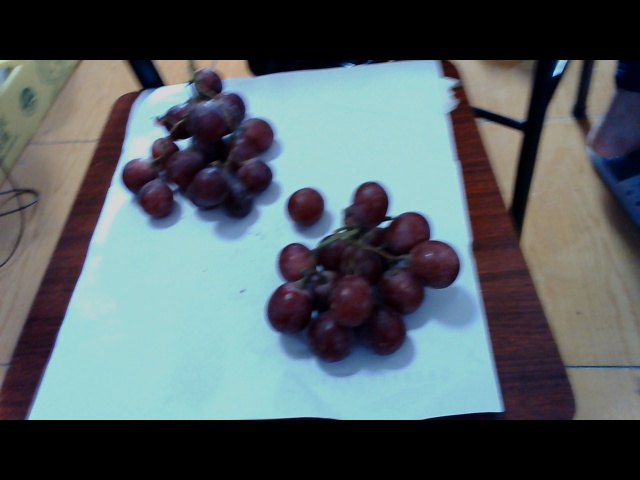grape: (267, 184, 461, 359), (119, 70, 273, 226)
